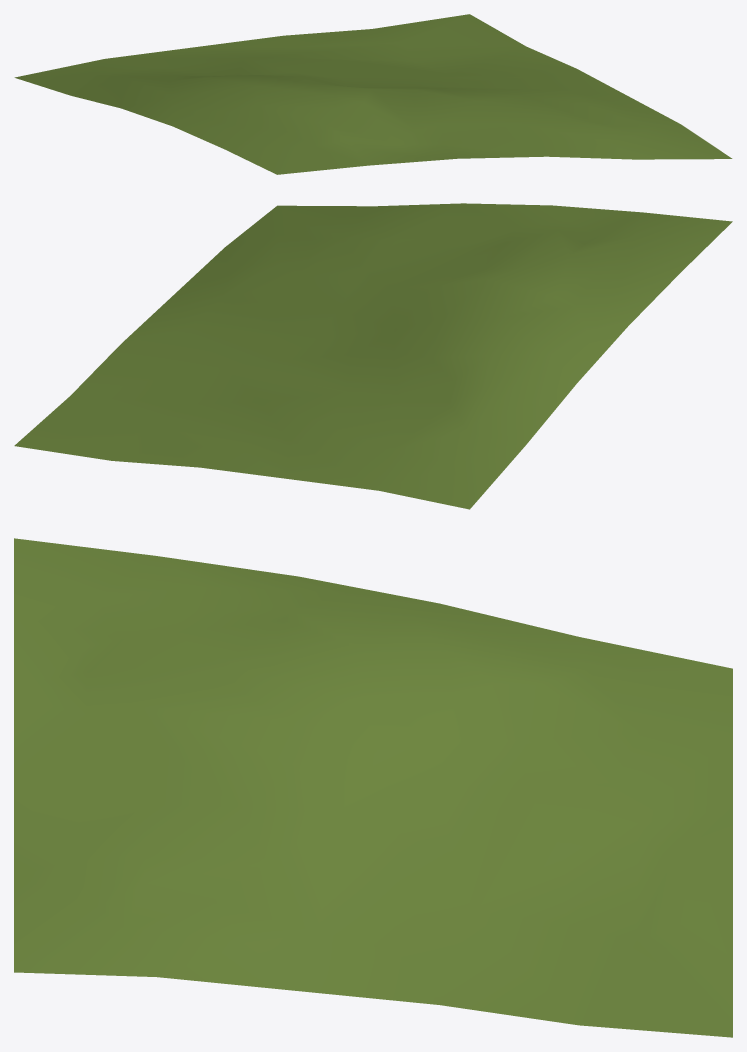
File: rpgpp_ag_terrain_hill_02b_10x10m_1-1m.fbx
3 renders of one model, top to bottom at view 1: azimuth 30°, elevation 25°; view 2: azimuth 150°, elevation 25°; view 3: azimuth 270°, elevation 25°, orthographic. The views are drawn at different scales.
Parts seen in each view (by area): view 1: rpgpp_ag_terrain_hill_02b_10x10m_1-1m; view 2: rpgpp_ag_terrain_hill_02b_10x10m_1-1m; view 3: rpgpp_ag_terrain_hill_02b_10x10m_1-1m.
Boxes of the visible parts, <box> form: rpgpp_ag_terrain_hill_02b_10x10m_1-1m: <box>14,14,732,174</box>; rpgpp_ag_terrain_hill_02b_10x10m_1-1m: <box>14,203,732,509</box>; rpgpp_ag_terrain_hill_02b_10x10m_1-1m: <box>14,538,732,1037</box>.
Size of the model in its own units: 10 by 3 by 10.
